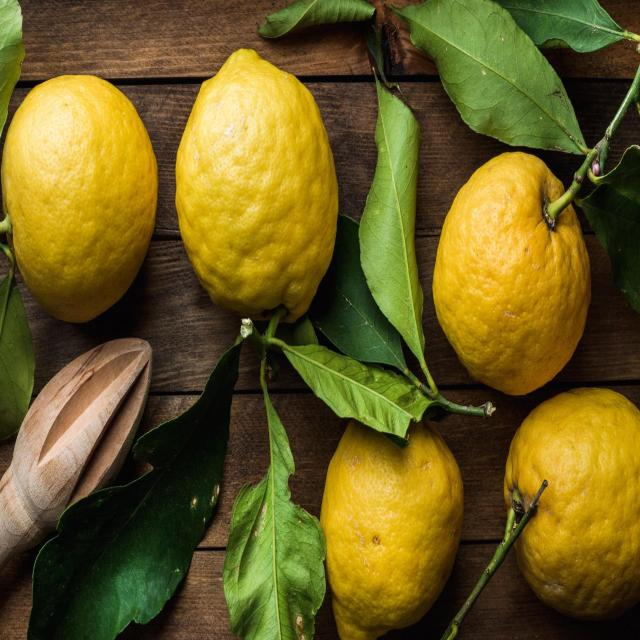lemon: (170, 42, 340, 353), (425, 145, 595, 401)
